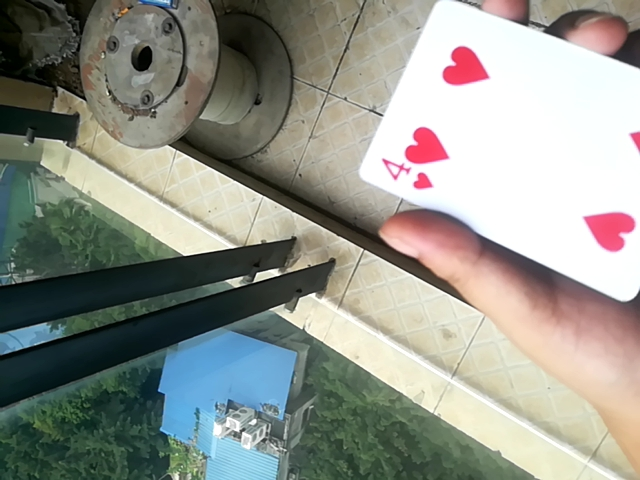hx 4: (362, 4, 640, 311)
